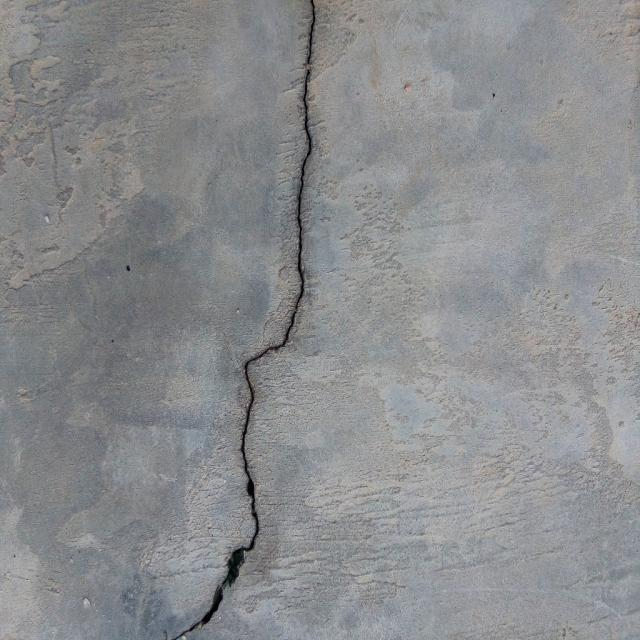cracks: (141, 0, 350, 640)
